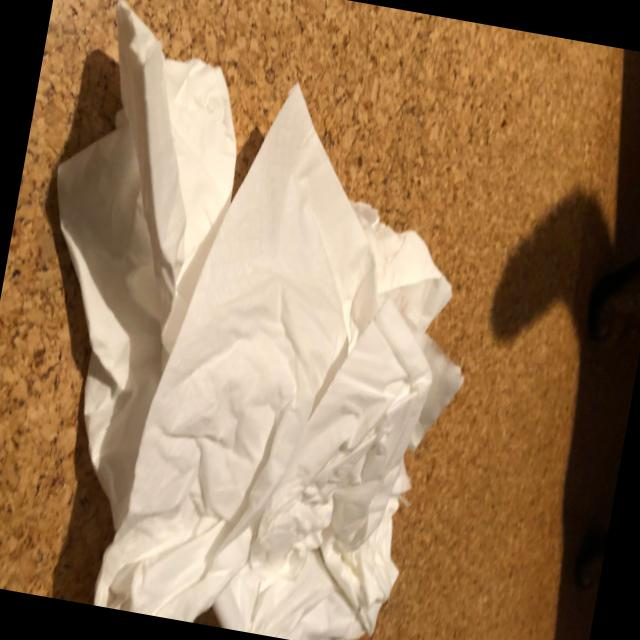organic waste: (90, 58, 478, 640), (0, 0, 266, 545), (297, 178, 492, 490)
